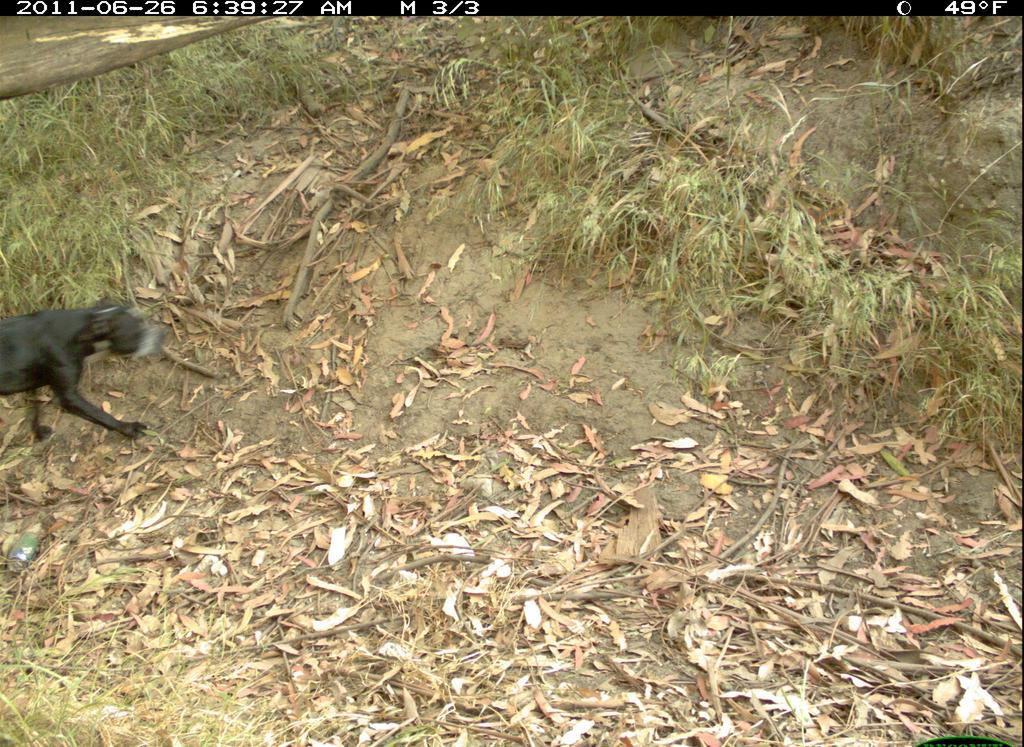dog: (1, 282, 217, 457)
